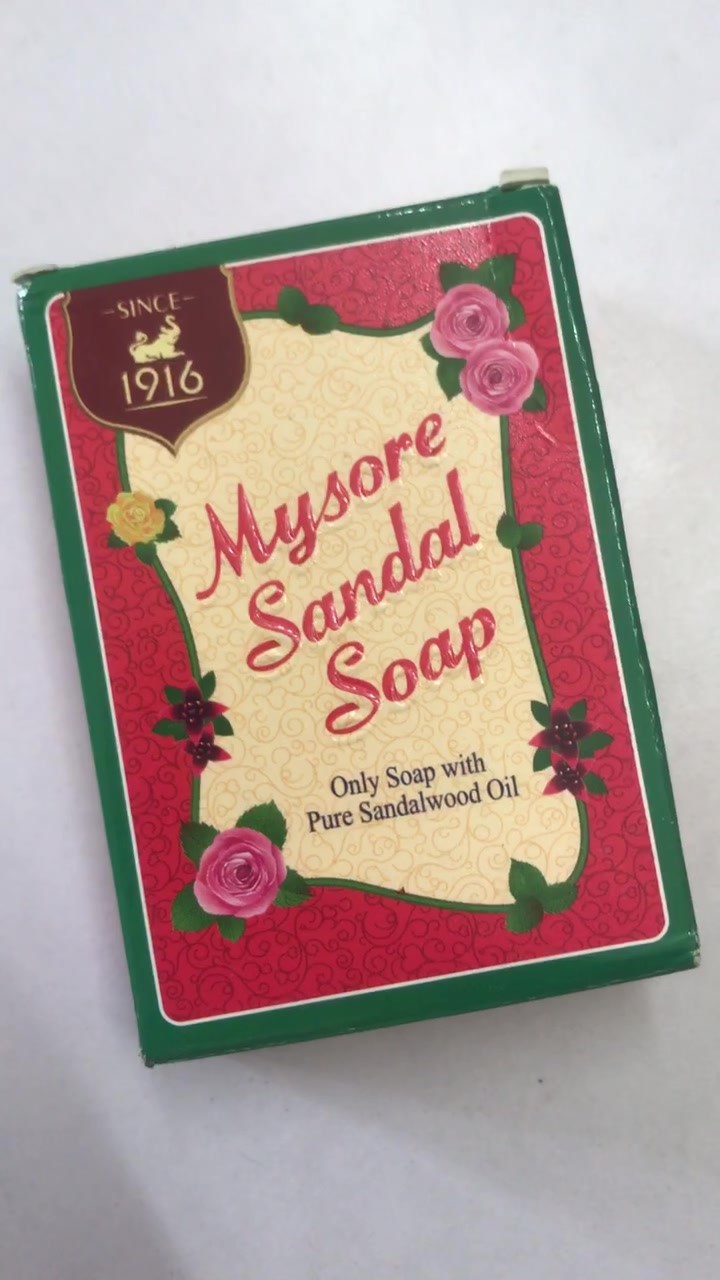mysore sandal soap: (20, 196, 696, 1068)
